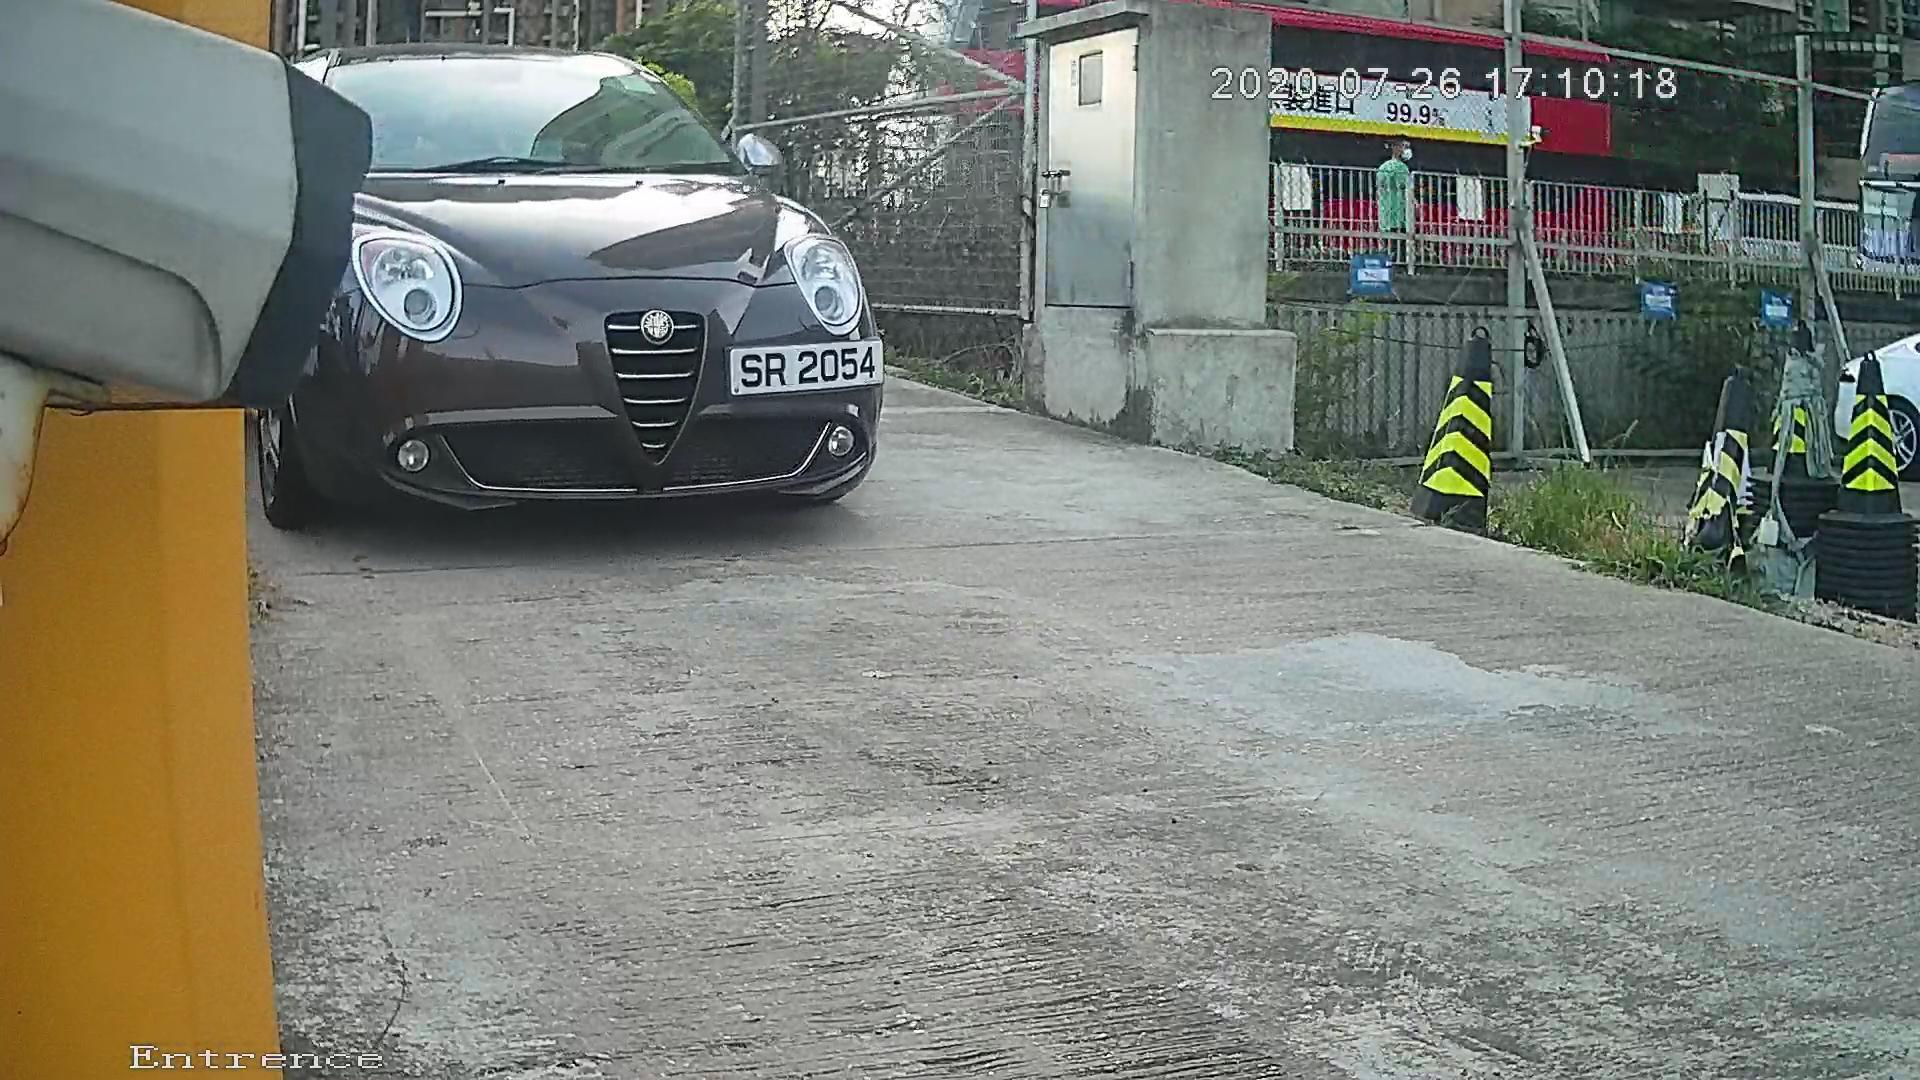privatecar: (215, 15, 986, 555)
